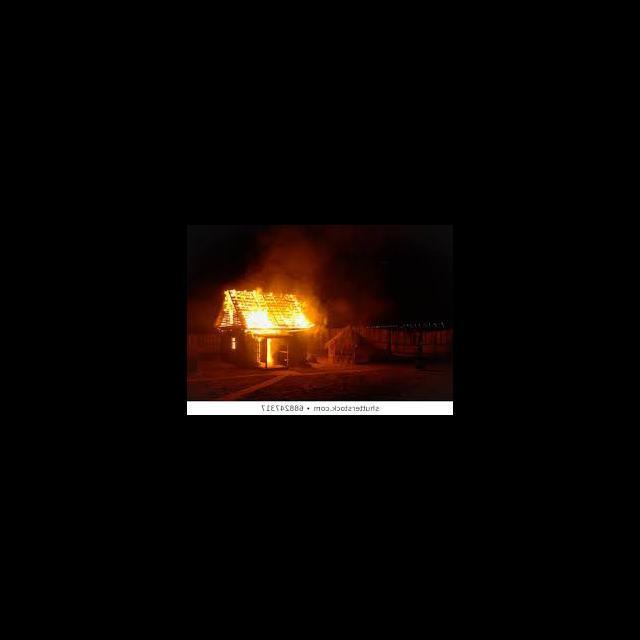Fire: (211, 290, 311, 332), (262, 339, 274, 367), (230, 336, 234, 349)
Smoke: (228, 229, 332, 289), (318, 272, 388, 328), (188, 292, 210, 333)
